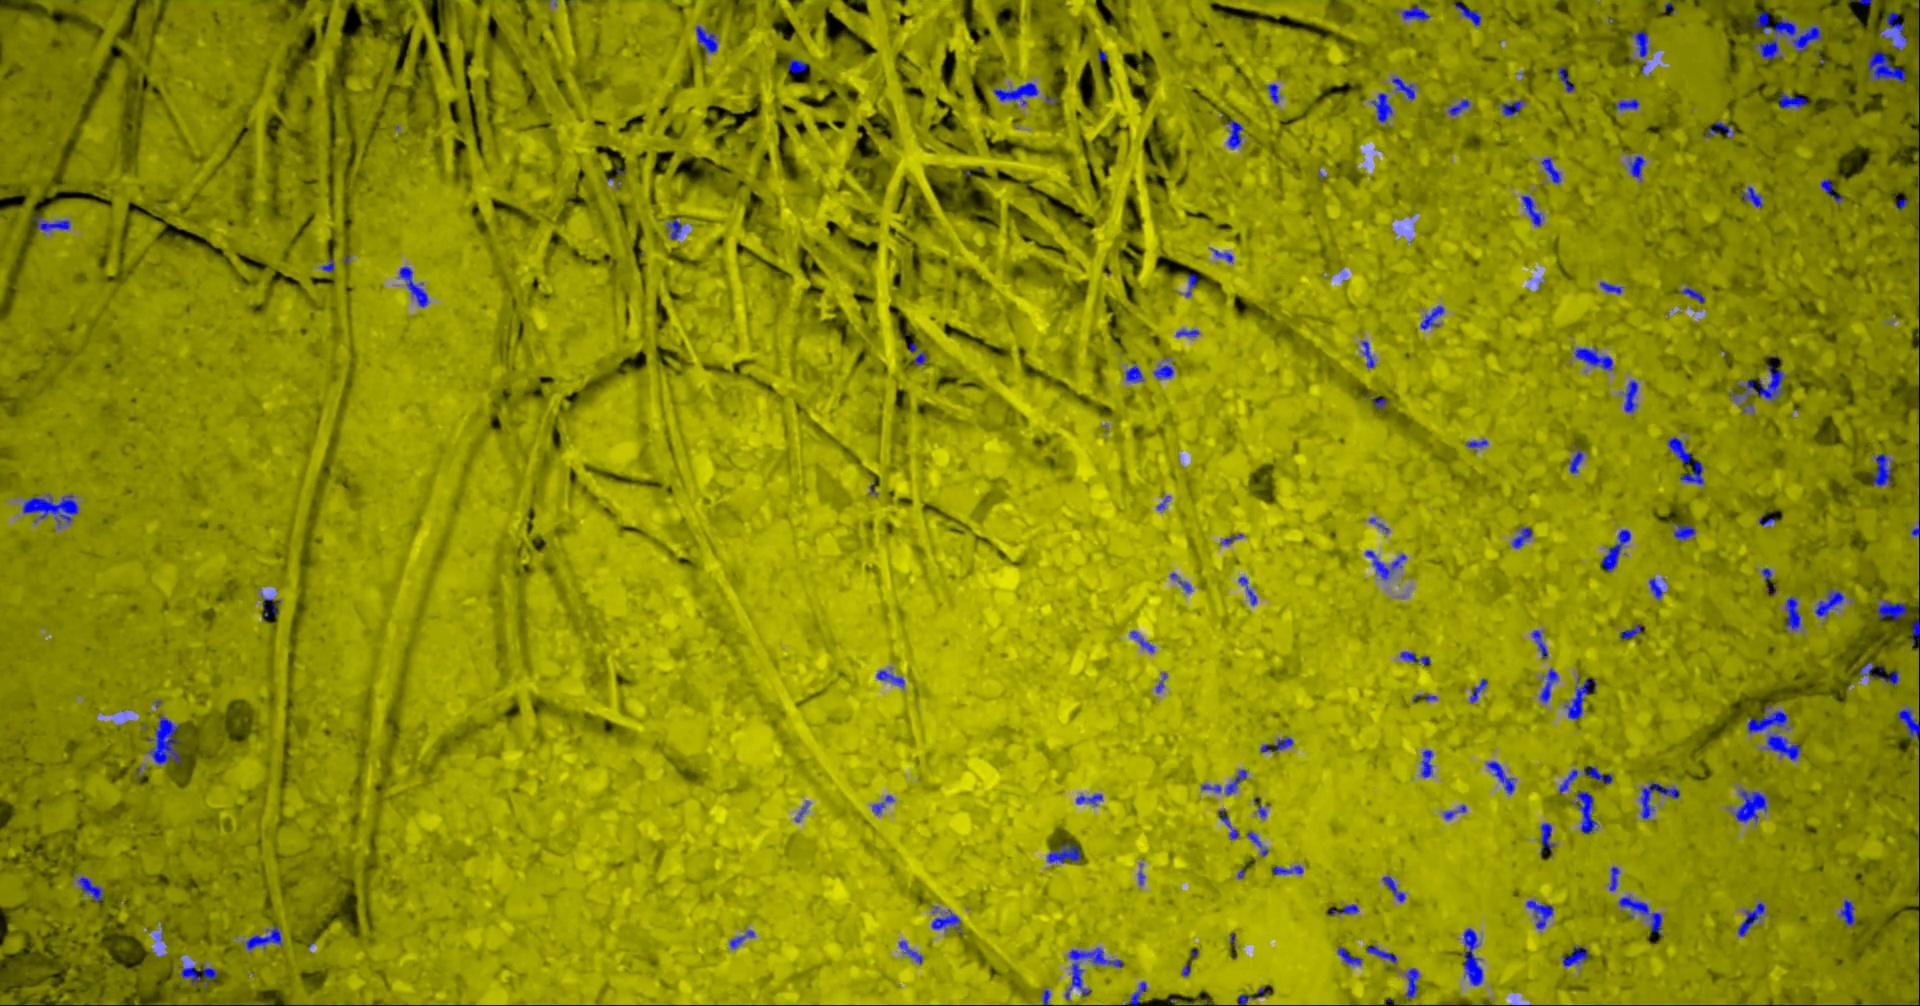ant: (1064, 948, 1123, 998), (1730, 365, 1784, 400), (22, 494, 77, 528), (145, 714, 183, 763), (1667, 437, 1704, 484), (1618, 895, 1661, 935), (1639, 781, 1679, 819), (1564, 676, 1596, 719), (1600, 528, 1630, 572), (1867, 50, 1905, 84), (397, 265, 428, 307), (1364, 550, 1406, 579), (1746, 704, 1788, 733), (1731, 789, 1768, 822), (1200, 768, 1246, 794), (1571, 790, 1597, 833), (1462, 929, 1482, 984), (992, 83, 1037, 104), (1764, 733, 1801, 760), (1486, 761, 1515, 794), (1859, 661, 1898, 685), (1737, 901, 1764, 936), (1573, 345, 1611, 370), (180, 963, 217, 987), (1896, 708, 1919, 746), (245, 925, 281, 949), (1815, 588, 1844, 617), (1884, 10, 1906, 50), (1526, 899, 1553, 929), (931, 909, 961, 934), (1870, 453, 1892, 486), (1046, 841, 1079, 862), (77, 876, 103, 903), (1370, 91, 1392, 122), (1521, 196, 1543, 226), (1876, 600, 1906, 621), (1217, 809, 1238, 840), (1539, 668, 1558, 702), (30, 215, 70, 231), (1454, 3, 1481, 25), (695, 25, 717, 52), (1390, 76, 1415, 100), (1820, 178, 1843, 203), (1382, 875, 1404, 901), (1784, 594, 1801, 629), (1420, 305, 1443, 329), (898, 940, 922, 963), (1123, 981, 1145, 1005), (1129, 630, 1154, 652), (1562, 945, 1587, 967), (1260, 735, 1293, 752), (1247, 829, 1267, 856), (1365, 945, 1396, 963), (1583, 765, 1611, 784), (1238, 575, 1256, 605), (875, 669, 904, 687), (1703, 121, 1733, 137), (1540, 158, 1559, 183), (729, 929, 754, 948), (1225, 119, 1242, 149), (1629, 30, 1647, 57), (1557, 65, 1575, 91), (1837, 899, 1855, 926), (1741, 185, 1763, 207), (1399, 5, 1430, 20), (1778, 91, 1806, 108), (1623, 379, 1637, 412), (1558, 768, 1577, 793), (1337, 946, 1361, 965), (1627, 155, 1644, 180), (1404, 967, 1418, 998), (1530, 630, 1547, 657), (1511, 526, 1531, 547), (1170, 572, 1191, 592), (1469, 678, 1487, 702), (1540, 822, 1554, 852), (1679, 287, 1704, 304), (871, 795, 893, 814), (908, 342, 926, 365), (1399, 652, 1430, 664), (1448, 98, 1469, 116), (1501, 99, 1524, 116), (1672, 523, 1695, 540), (1568, 448, 1583, 473), (262, 594, 278, 616), (1420, 749, 1432, 777), (665, 216, 681, 239), (1619, 624, 1642, 639), (1443, 804, 1465, 819), (1361, 340, 1374, 367), (1076, 793, 1102, 805), (1648, 577, 1662, 600), (1330, 903, 1357, 915), (1124, 365, 1143, 381), (1185, 272, 1197, 296), (1599, 281, 1622, 293), (787, 58, 808, 72), (1153, 365, 1173, 379), (1910, 614, 1919, 645), (1615, 98, 1639, 109), (1608, 866, 1619, 890), (1272, 865, 1302, 874), (1266, 83, 1279, 103), (1211, 248, 1232, 260), (1220, 533, 1243, 544), (320, 257, 334, 272), (1371, 398, 1387, 410), (1175, 329, 1197, 337), (1237, 993, 1252, 1005), (1465, 439, 1487, 447), (1043, 988, 1050, 1005)
